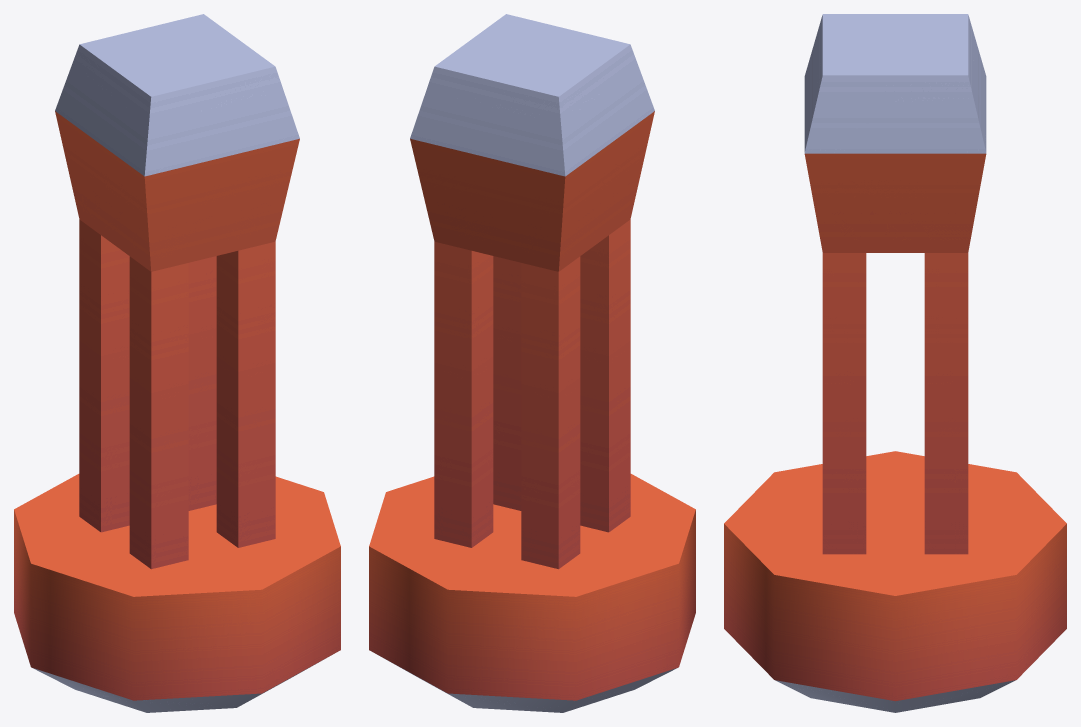
Rendered from buoy.glb.
3 views of the same model, side by side, from view 1: azimuth 30°, elevation 25°; view 2: azimuth 150°, elevation 25°; view 3: azimuth 270°, elevation 25° (orthographic).
Visible parts, largest first — view 1: buoy; view 2: buoy; view 3: buoy.
Boxes of the visible parts, <box> form: buoy: <box>14,14,340,712</box>; buoy: <box>369,14,695,712</box>; buoy: <box>724,14,1066,712</box>.
Bounding box in the file's own units: 0.9282 × 1.84 × 0.9282.
1 material, 1 textured.
